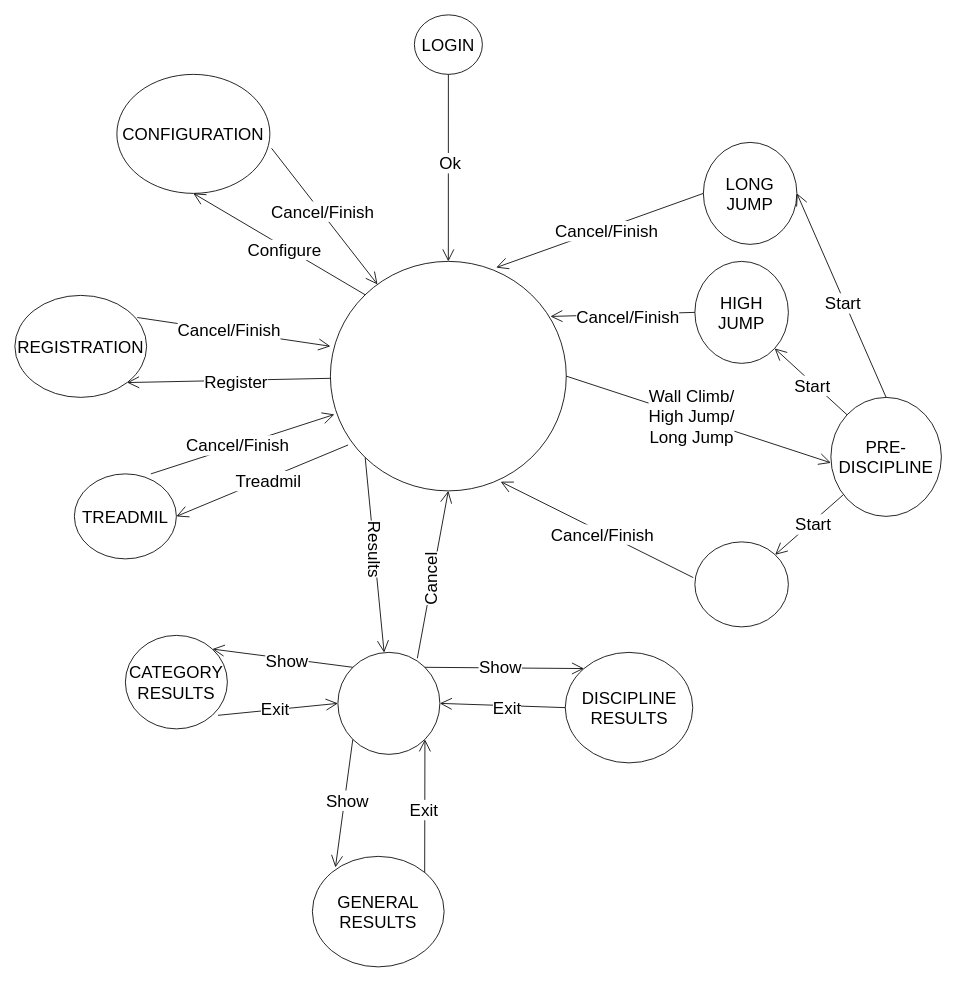
This 956x982 diagram has some shape labels left out. The shapes that lost their labels are listed below. From the top down, each one's centre as x and y in pixels, then its label:
At point 448,376: "HOME".
At point 741,584: "WALL CLIMB".
At point 388,703: "PRE-RESULTS".
